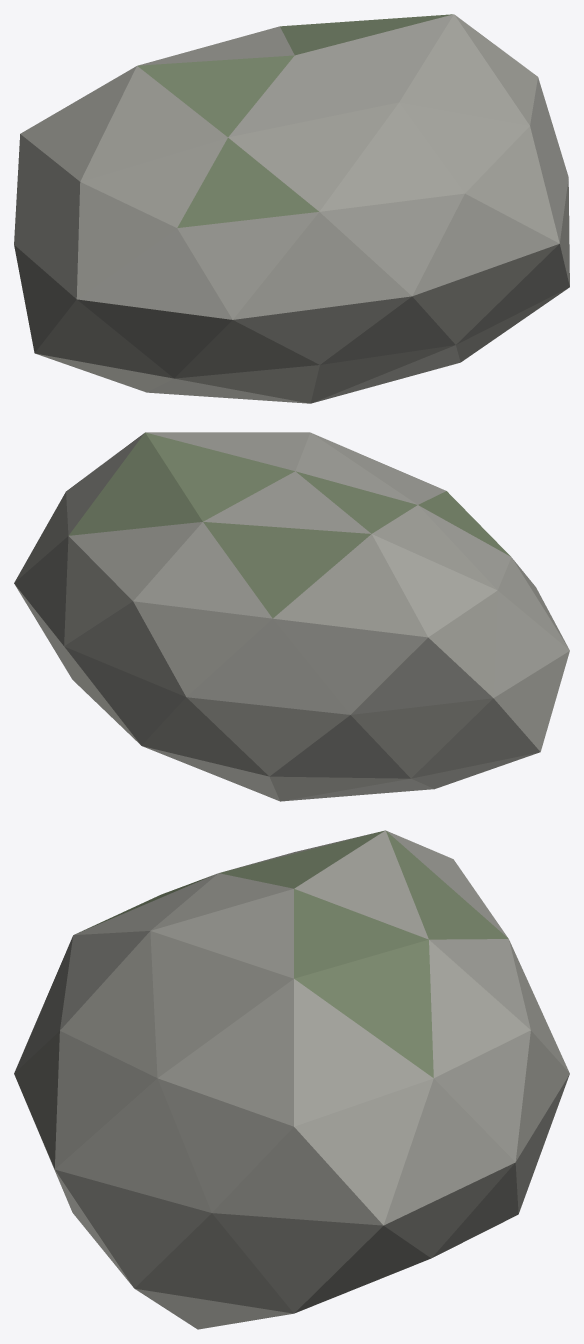
File: coastal_boulder_a.glb
3 views of the same model, one above another, from view 1: azimuth 30°, elevation 25°; view 2: azimuth 150°, elevation 25°; view 3: azimuth 270°, elevation 25° (orthographic). The views are drawn at different scales.
Visible parts, largest first — view 1: coastal_boulder_a LOD0; view 2: coastal_boulder_a LOD0; view 3: coastal_boulder_a LOD0.
Boxes of the visible parts, x1=… form: coastal_boulder_a LOD0: x1=14, y1=14, x2=569, y2=403; coastal_boulder_a LOD0: x1=14, y1=432, x2=569, y2=801; coastal_boulder_a LOD0: x1=14, y1=830, x2=569, y2=1329.
Size of what is drawn, in the model's own units: 3.53 by 2.12 by 2.73.
